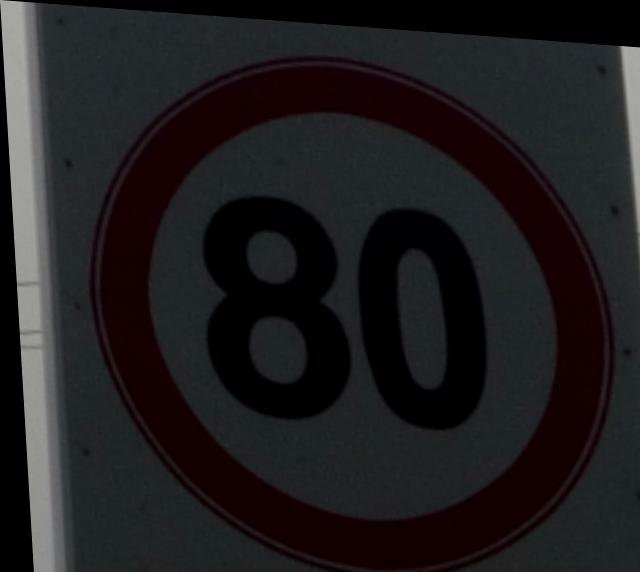limit80: (64, 21, 633, 572)
